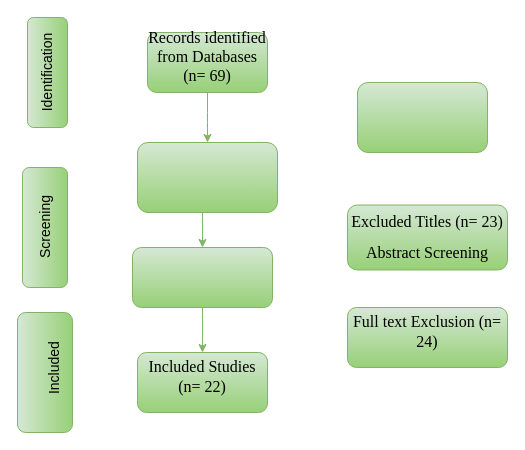
Some shapes in this 525 by 450 pixel diagram are drawn without their labels. The centre of each missing label's shape, as x and y in pixels:
Abstract screening Included Studies (n= 46): pixel 207 177
Full text Assessment (n=46): pixel 202 277
Initial exclusion (n= 0) Title screening: pixel 422 117
